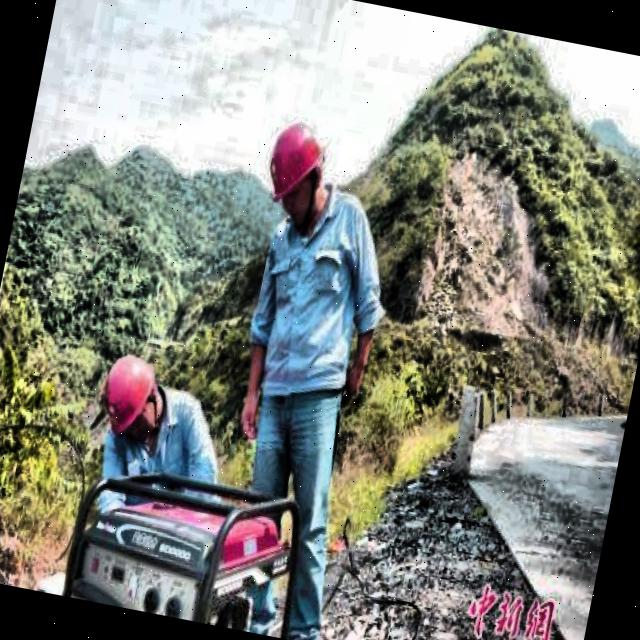helmet: (254, 107, 346, 235), (88, 344, 170, 446)
